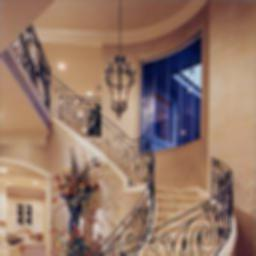Escaleras: (55, 73, 239, 253)
